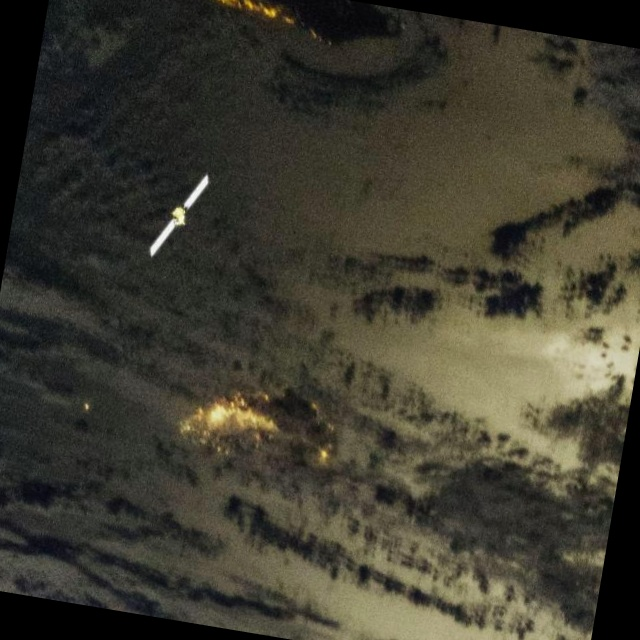satellite: (135, 145, 235, 294)
